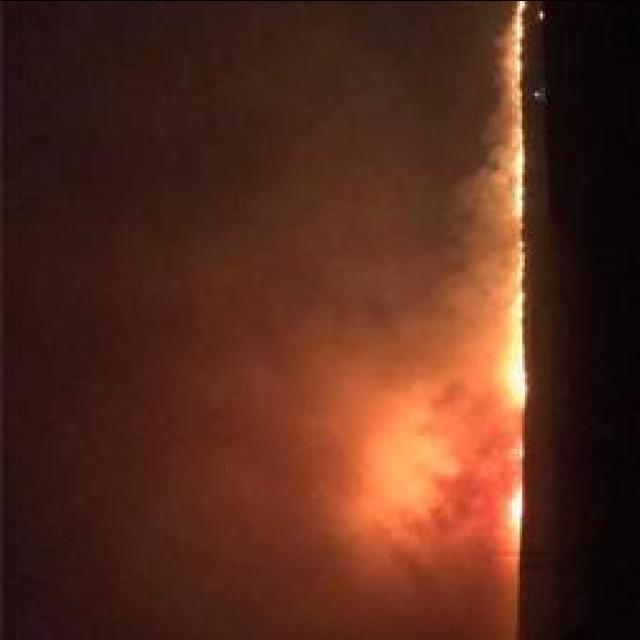fire: (503, 292, 529, 406), (508, 125, 526, 218), (506, 482, 530, 538), (512, 0, 528, 72)
smoke: (410, 401, 510, 537), (465, 24, 511, 210), (430, 222, 510, 324)
